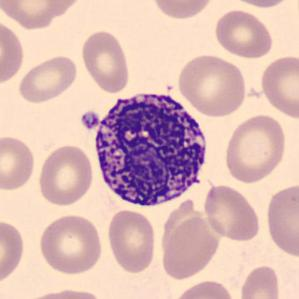Basophil: (89, 83, 213, 213)
Platelets: (78, 109, 100, 131)
RBC: (175, 52, 249, 118), (222, 112, 288, 185), (158, 213, 222, 282), (37, 213, 104, 276), (36, 142, 94, 208), (202, 182, 262, 243), (105, 207, 158, 275), (79, 28, 132, 95), (16, 52, 80, 104), (212, 7, 275, 59), (257, 53, 298, 120), (264, 181, 298, 259), (0, 0, 80, 30), (0, 133, 37, 191), (0, 17, 27, 88), (0, 216, 27, 286), (238, 263, 282, 299), (171, 277, 235, 299), (149, 0, 216, 21), (26, 286, 108, 299), (223, 0, 296, 9)
